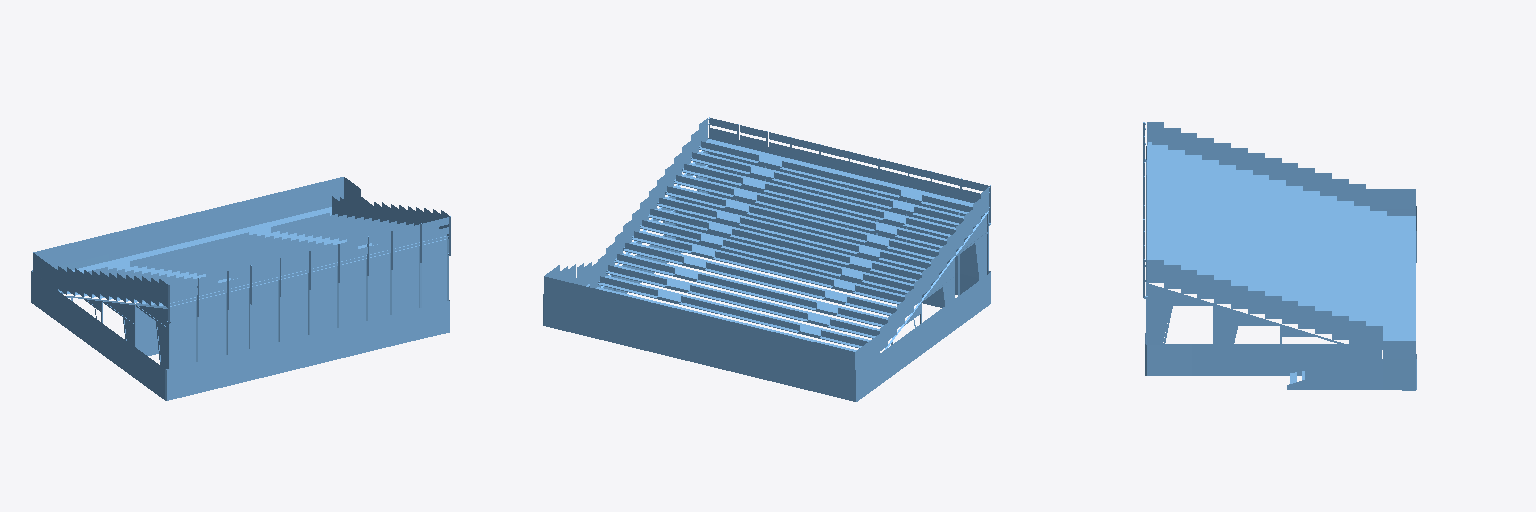
The picture shows the model from 3 angles: view 1: azimuth 30°, elevation 25°; view 2: azimuth 150°, elevation 25°; view 3: azimuth 270°, elevation 25°; orthographic projection.
Visible parts, largest first — view 1: Node_013_mel_grandstand_genericmedium_a_physics_!bk; view 2: Node_013_mel_grandstand_genericmedium_a_physics_!bk; view 3: Node_013_mel_grandstand_genericmedium_a_physics_!bk.
Part boxes in pixels (bbox=[...]): Node_013_mel_grandstand_genericmedium_a_physics_!bk: bbox=[31, 177, 450, 400]; Node_013_mel_grandstand_genericmedium_a_physics_!bk: bbox=[543, 117, 990, 401]; Node_013_mel_grandstand_genericmedium_a_physics_!bk: bbox=[1143, 122, 1416, 390].
Bounding box in the file's own units: 23.67 × 8.38 × 17.87.
Materials: 1 (1 with a texture image).